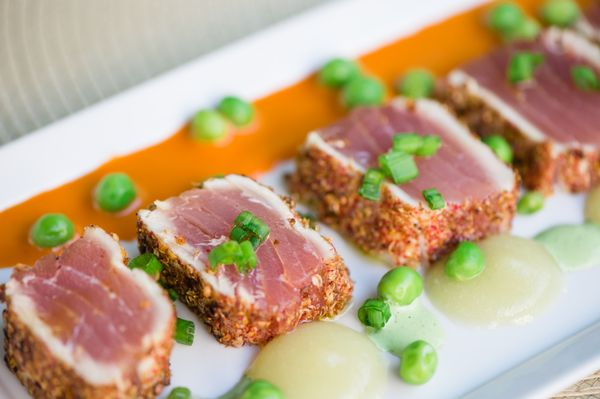soup: (131, 174, 355, 349)
